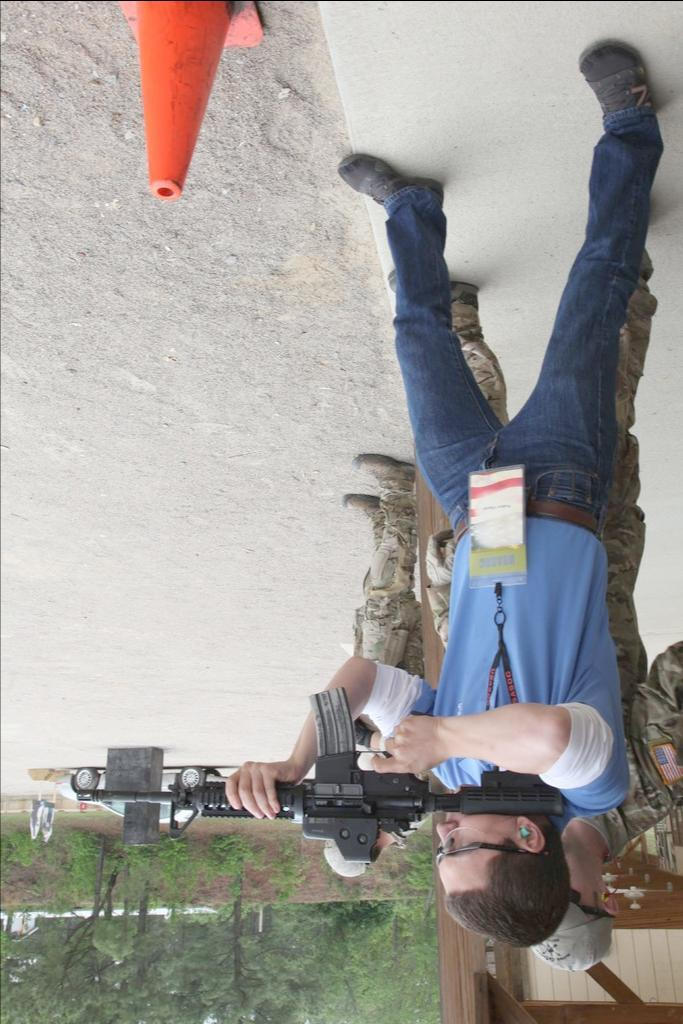gun: (75, 682, 542, 864)
